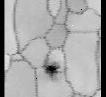good_void: (40, 60, 62, 79)
